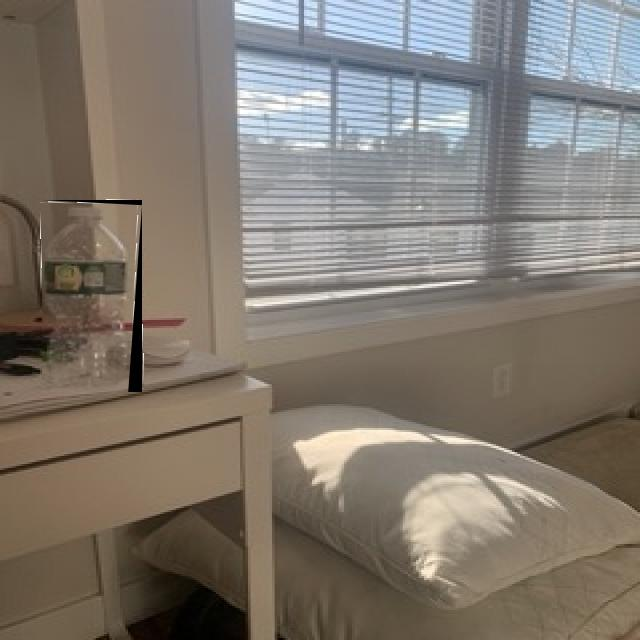water_bottle: (42, 200, 142, 392)
